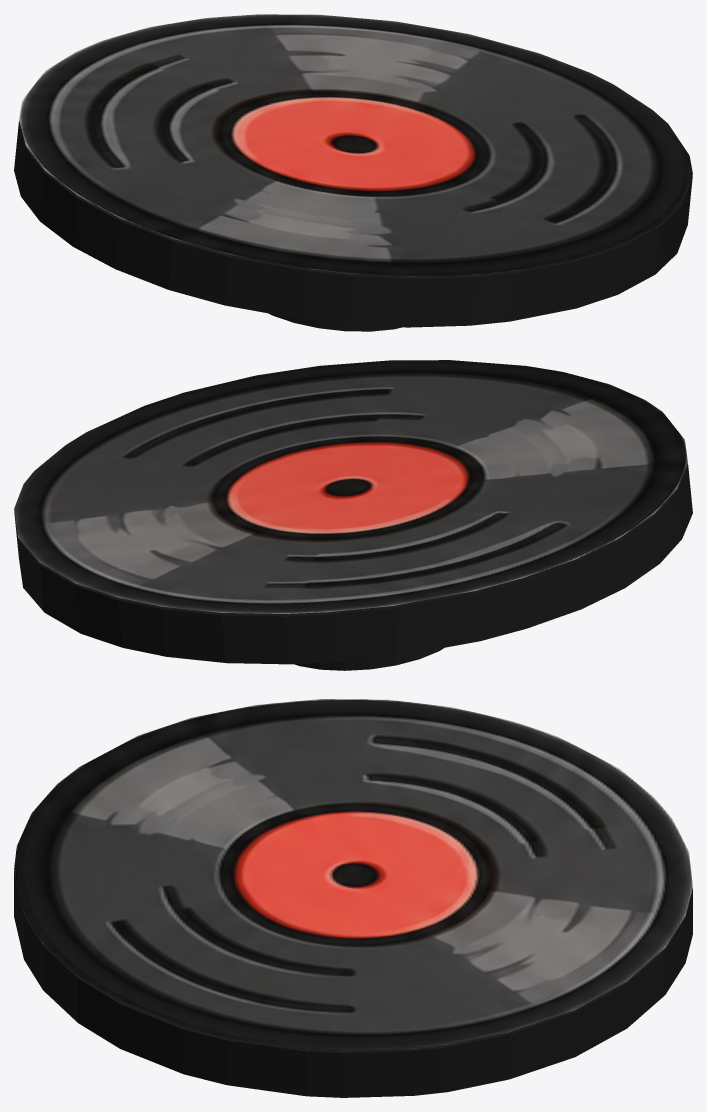
The model's file is music-vinyl-record.glb.
3 renders of one model, top to bottom at view 1: azimuth 30°, elevation 25°; view 2: azimuth 150°, elevation 25°; view 3: azimuth 270°, elevation 25°, orthographic.
Parts seen in each view (by area): view 1: MUSIC_Vinyl_Record_MODEL; view 2: MUSIC_Vinyl_Record_MODEL; view 3: MUSIC_Vinyl_Record_MODEL.
Boxes of the visible parts, box(x1,y1,x2,y2) form: MUSIC_Vinyl_Record_MODEL: box(14, 14, 692, 331); MUSIC_Vinyl_Record_MODEL: box(14, 360, 692, 670); MUSIC_Vinyl_Record_MODEL: box(14, 699, 692, 1097).
Bounding box in the file's own units: 0.3325 × 0.1002 × 0.3306.
3 materials, 1 textured.
